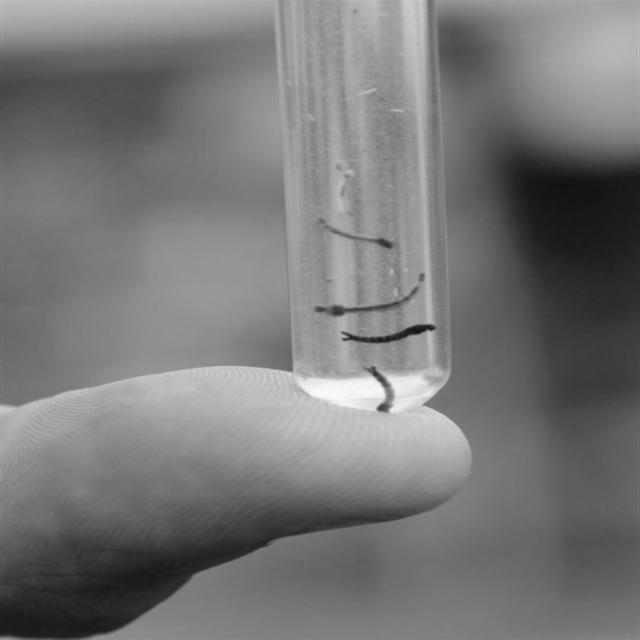larvas: (311, 271, 432, 317), (316, 221, 396, 249), (340, 321, 435, 341), (332, 161, 360, 214), (366, 368, 394, 410)
